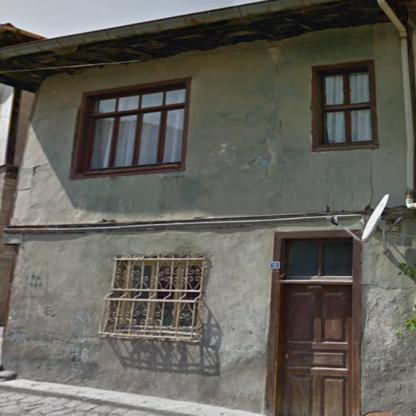door: (280, 284, 350, 415)
window: (84, 85, 186, 170), (113, 265, 199, 331), (324, 69, 375, 142), (283, 240, 352, 276)
